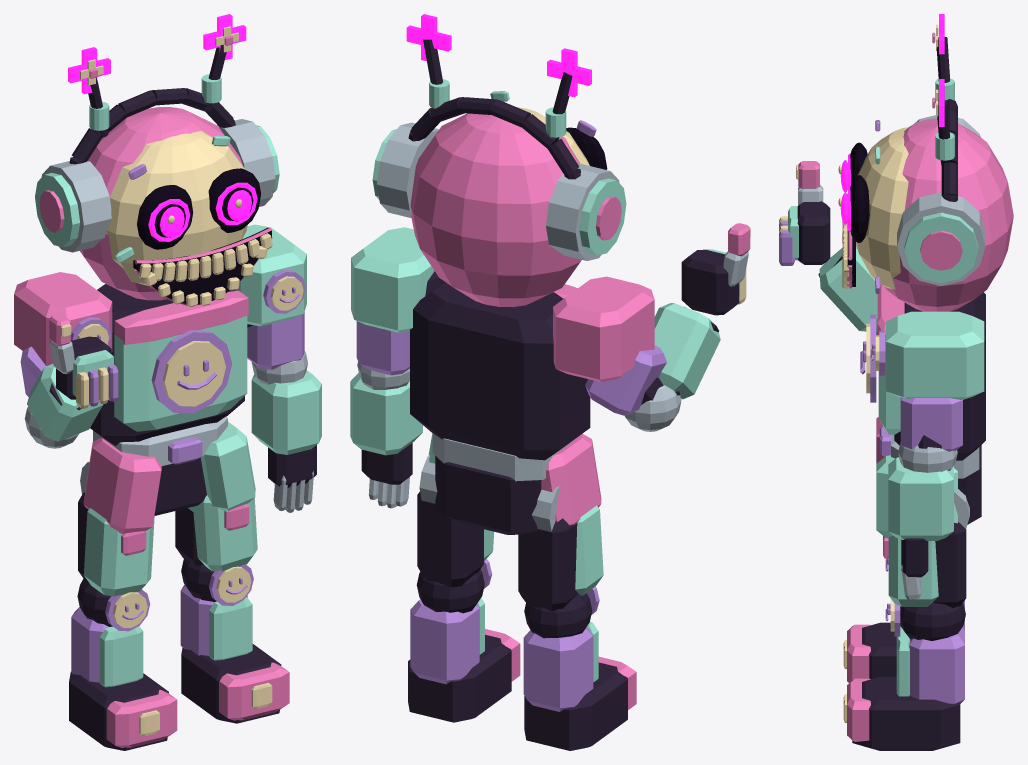
The model's file is smile-chaser.glb.
3 views of the same model, side by side, from view 1: azimuth 30°, elevation 25°; view 2: azimuth 150°, elevation 25°; view 3: azimuth 270°, elevation 25° (orthographic). The views are drawn at different scales.
Visible parts, largest first — view 1: Face_Cream_Mask, Chest_Pastel_Plate, Helmet_Pastel_Shell, Hip_Plate_-1, Shoulder_-1_Pauldron, Left_Forearm_Armor, Thigh_-1_Armor, Chest_Pink_Yoke, Hip_Plate_1, Boot_-1_Heavy, Thigh_1_Armor, Shoulder_1_Pauldron (+49 smaller); view 2: Torso_Undersuit, Helmet_Pastel_Shell, Shoulder_-1_Pauldron, Shoulder_1_Pauldron, Pelvis, Boot_-1_Heavy, Boot_1_Heavy, Shin_-1_Armor, Shin_1_Armor, Thigh_-1_Undersuit, Thigh_1_Undersuit, Right_Forearm_Armor (+21 smaller); view 3: Helmet_Pastel_Shell, Shoulder_1_Pauldron, Boot_1_Heavy, Face_Cream_Mask, Left_Forearm_Armor, Shin_1_Armor, Left_Bicep_Armor, Headphone_1_Enamel, Right_Forearm_Armor, Headphone_1_Chrome, Thigh_1_Undersuit, Torso_Undersuit (+26 smaller).
Part boxes in pixels (x1,y1,x2,y2): Face_Cream_Mask: (106, 131, 247, 285); Chest_Pastel_Plate: (114, 315, 247, 431); Helmet_Pastel_Shell: (80, 107, 242, 300); Hip_Plate_-1: (83, 438, 161, 533); Shoulder_-1_Pauldron: (14, 272, 112, 365); Left_Forearm_Armor: (251, 370, 321, 454); Thigh_-1_Armor: (83, 508, 154, 596); Chest_Pink_Yoke: (114, 290, 248, 344); Hip_Plate_1: (200, 421, 255, 510); Boot_-1_Heavy: (69, 672, 168, 750); Thigh_1_Armor: (188, 495, 257, 571); Shoulder_1_Pauldron: (235, 224, 306, 326); Torso_Undersuit: (410, 282, 590, 460); Helmet_Pastel_Shell: (410, 113, 581, 307); Shoulder_-1_Pauldron: (553, 276, 654, 381); Shoulder_1_Pauldron: (351, 227, 434, 332); Pelvis: (435, 456, 541, 534); Boot_-1_Heavy: (524, 662, 627, 750); Boot_1_Heavy: (408, 634, 511, 722); Shin_-1_Armor: (523, 627, 593, 711); Shin_1_Armor: (410, 599, 479, 684); Thigh_-1_Undersuit: (518, 518, 578, 611); Thigh_1_Undersuit: (417, 491, 483, 587); Right_Forearm_Armor: (654, 303, 720, 399); Helmet_Pastel_Shell: (885, 118, 1013, 311); Shoulder_1_Pauldron: (886, 311, 984, 399); Boot_1_Heavy: (852, 676, 960, 750); Face_Cream_Mask: (856, 127, 908, 289); Left_Forearm_Armor: (888, 457, 953, 540); Shin_1_Armor: (909, 627, 964, 704); Left_Bicep_Armor: (900, 397, 962, 451); Headphone_1_Enamel: (904, 212, 978, 283); Right_Forearm_Armor: (819, 246, 877, 331); Headphone_1_Chrome: (897, 192, 985, 285); Thigh_1_Undersuit: (933, 522, 966, 607); Torso_Undersuit: (894, 292, 985, 460).
Size of the model in its own units: 1.09 by 2.23 by 0.716.
